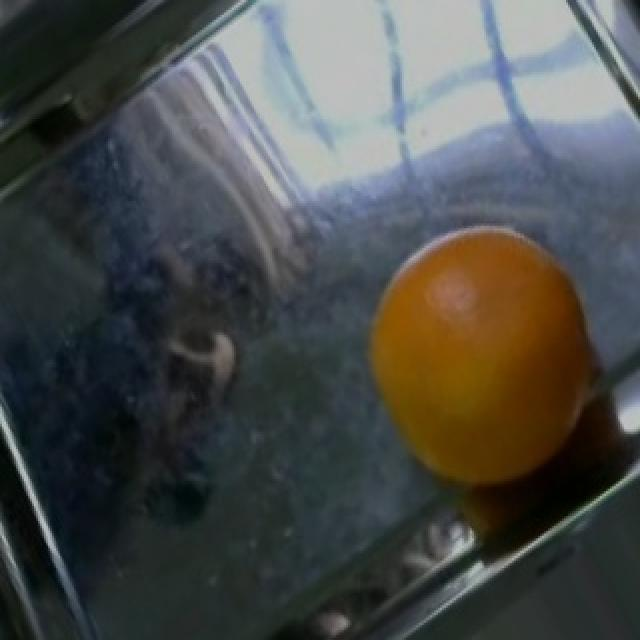Fruit: (348, 226, 624, 514)
